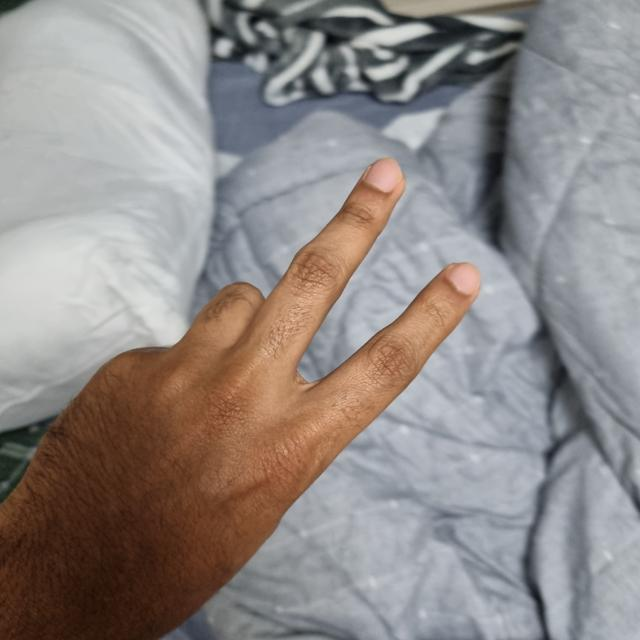Scissors: (0, 160, 477, 639)
